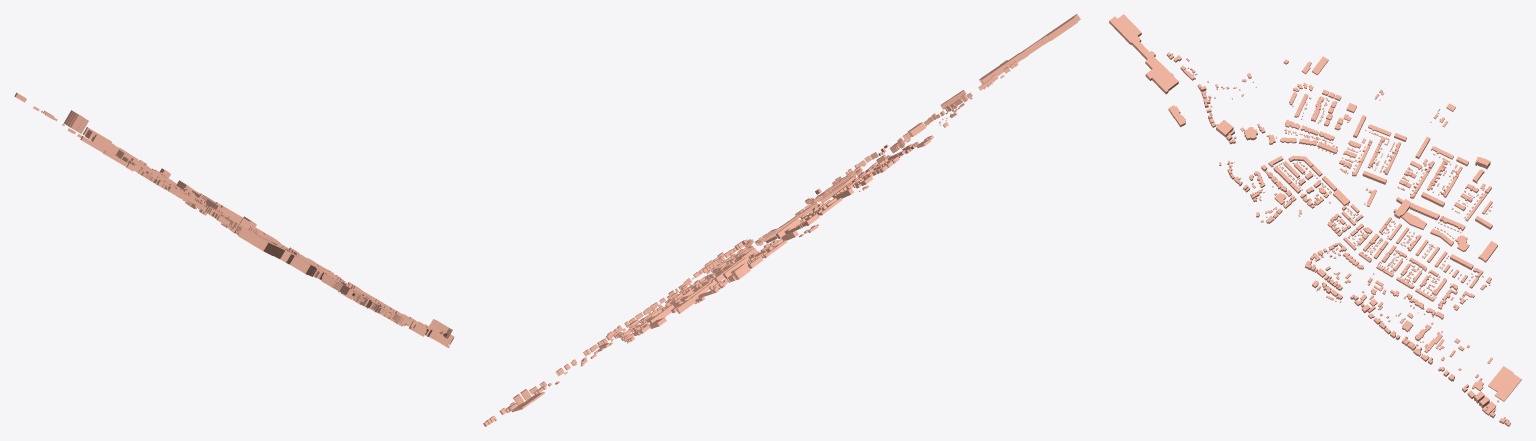
The picture shows the model from 3 angles, left to right: view 1: azimuth 30°, elevation 25°; view 2: azimuth 150°, elevation 25°; view 3: azimuth 270°, elevation 25°; orthographic projection. The views are drawn at different scales.
Bounding box in the file's own units: 916 × 788 × 1096.
